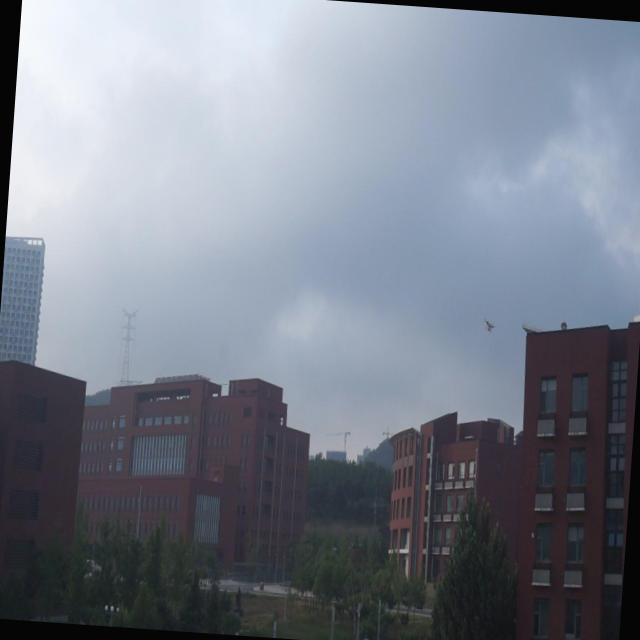drone: (482, 315, 494, 333)
